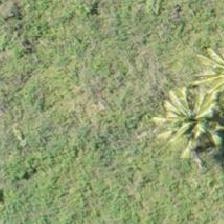coconut_tree: (147, 73, 223, 163)
